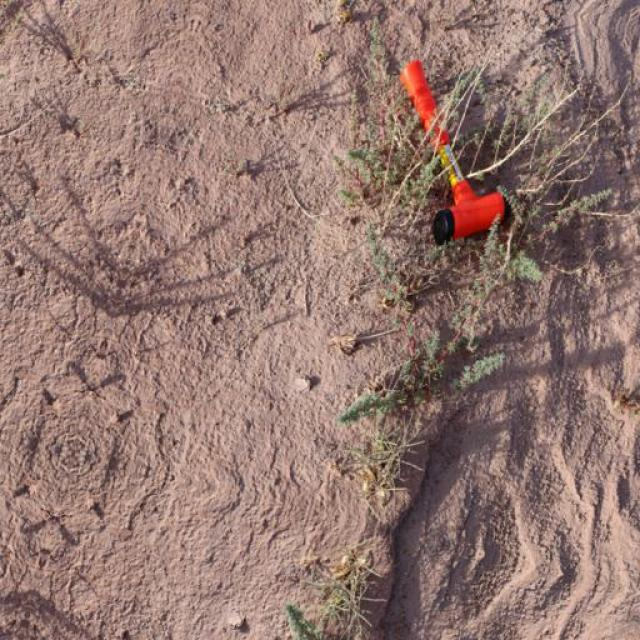mallet: (396, 57, 509, 245)
